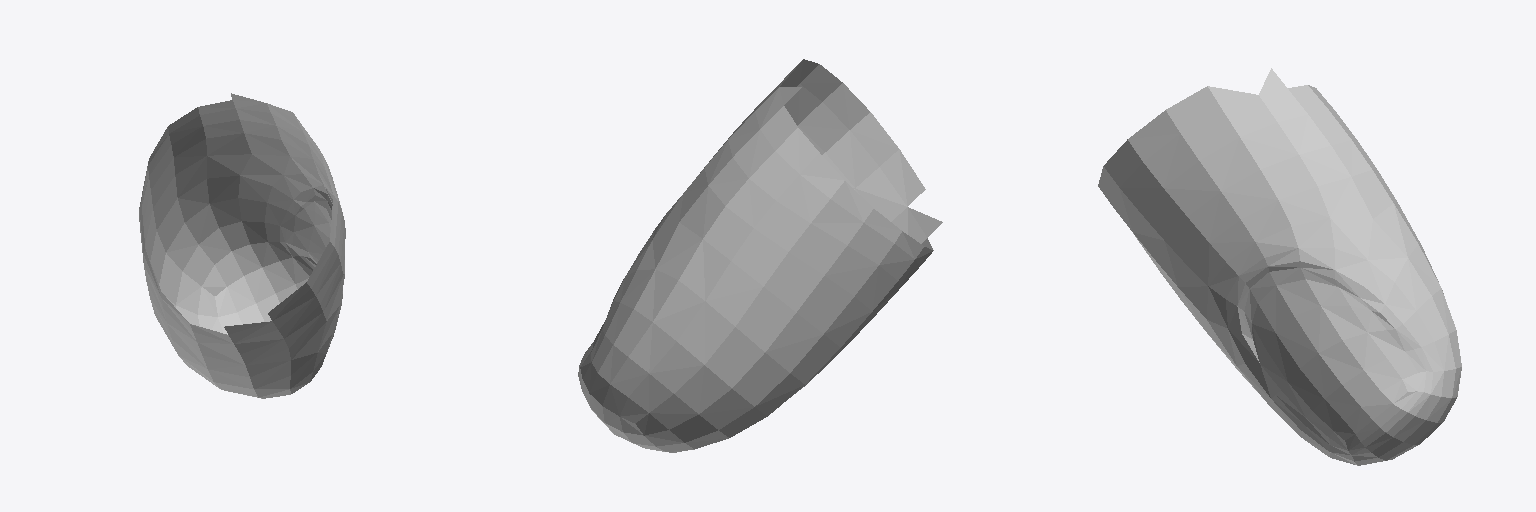
File: fTip.obj
3 renders of one model, left to right at view 1: azimuth 30°, elevation 25°; view 2: azimuth 150°, elevation 25°; view 3: azimuth 270°, elevation 25°, orthographic.
Parts seen in each view (by area): view 1: arm.001; view 2: arm.001; view 3: arm.001.
Boxes of the visible parts, x1,y1,x2,y2 form: arm.001: [139, 93, 345, 398]; arm.001: [578, 59, 942, 452]; arm.001: [1098, 68, 1461, 465].
Bounding box in the file's own units: 0.0429 × 0.0566 × 0.0539.